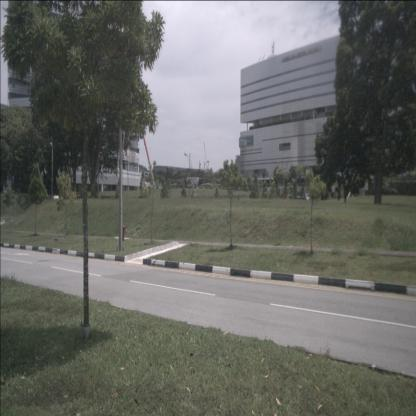movable_object-trafficcone: (73, 190, 76, 199), (74, 192, 77, 199)
vehicle-bus-rigid: (247, 177, 279, 196)
